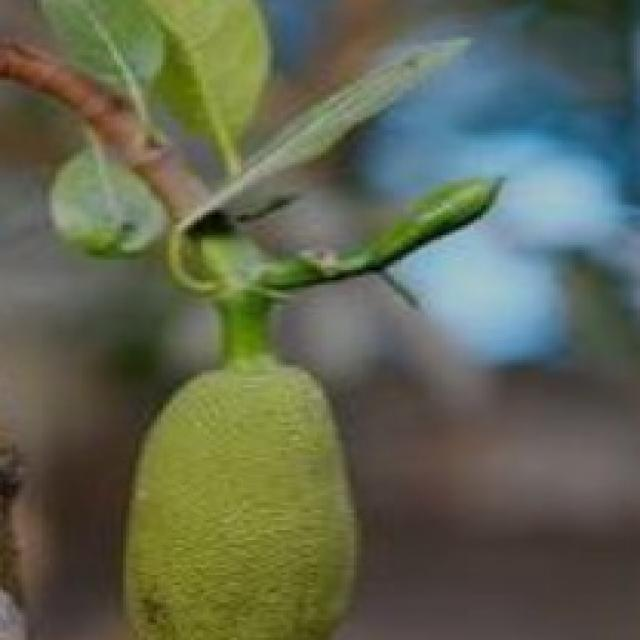Fruit: (71, 330, 406, 640)
